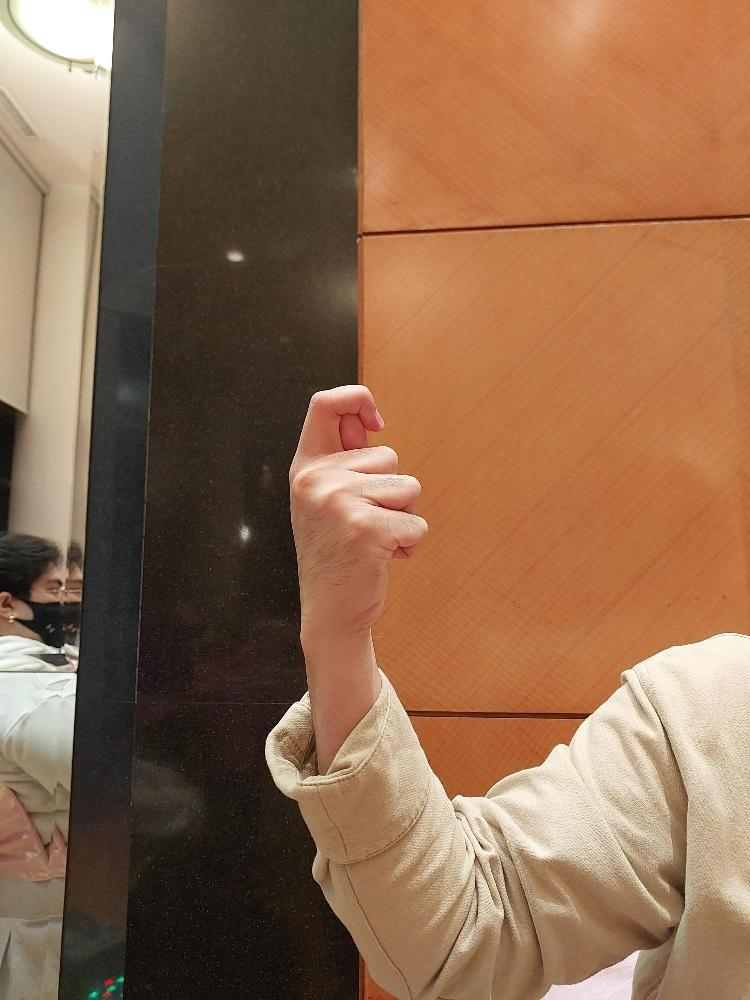t: (286, 381, 430, 641)
